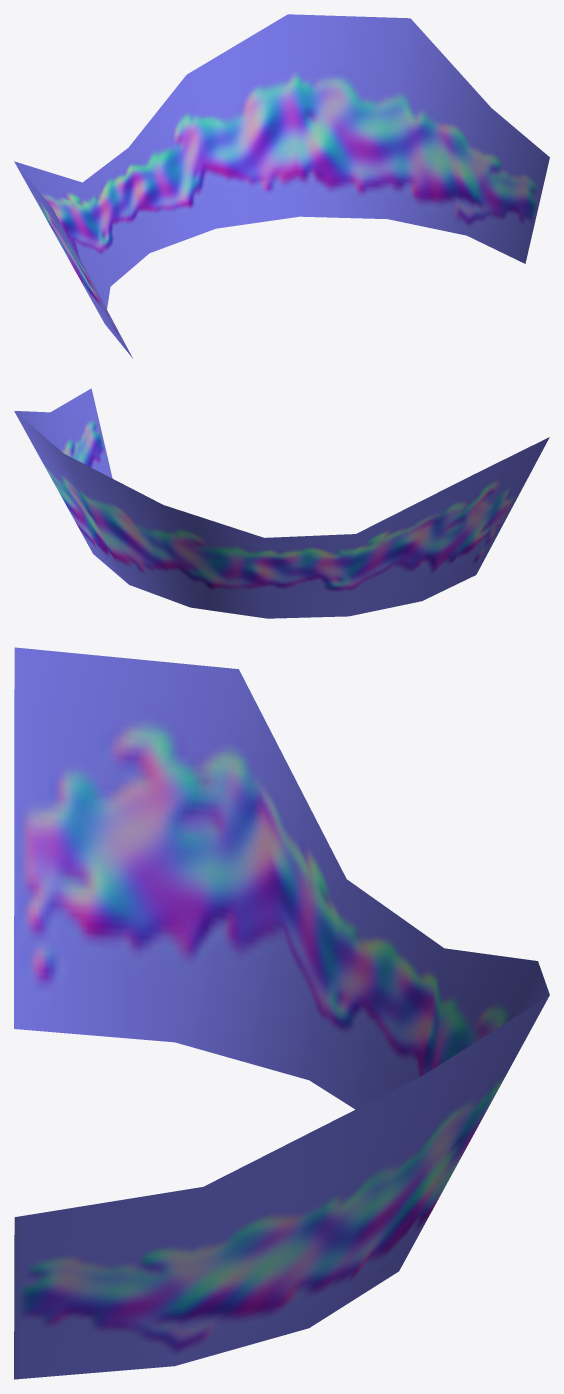
The model's file is p_trashbot_cinematic_halfcylinder01.fbx.
3 renders of one model, top to bottom at view 1: azimuth 30°, elevation 25°; view 2: azimuth 150°, elevation 25°; view 3: azimuth 270°, elevation 25°, orthographic. The views are drawn at different scales.
Parts seen in each view (by area): view 1: pCylinder6; view 2: pCylinder6; view 3: pCylinder6.
Part boxes in pixels (left/top/right/bottom): pCylinder6: left=14, top=14, right=549, bottom=358; pCylinder6: left=14, top=388, right=549, bottom=618; pCylinder6: left=14, top=647, right=549, bottom=1379.
Size of the model in its own units: 43.38 by 14.12 by 22.13.
